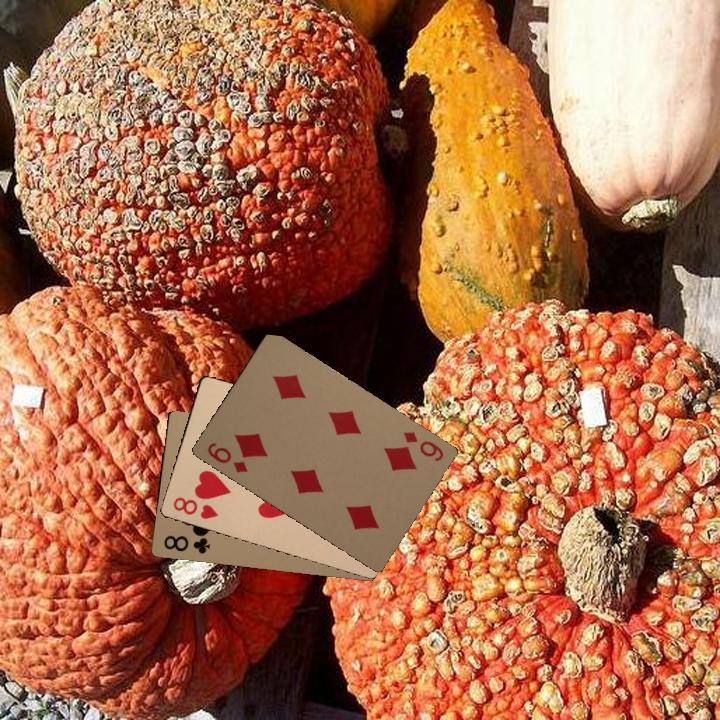6d: (203, 438, 250, 475), (399, 427, 446, 464)
8c: (160, 531, 212, 557)
8h: (169, 493, 221, 522)
